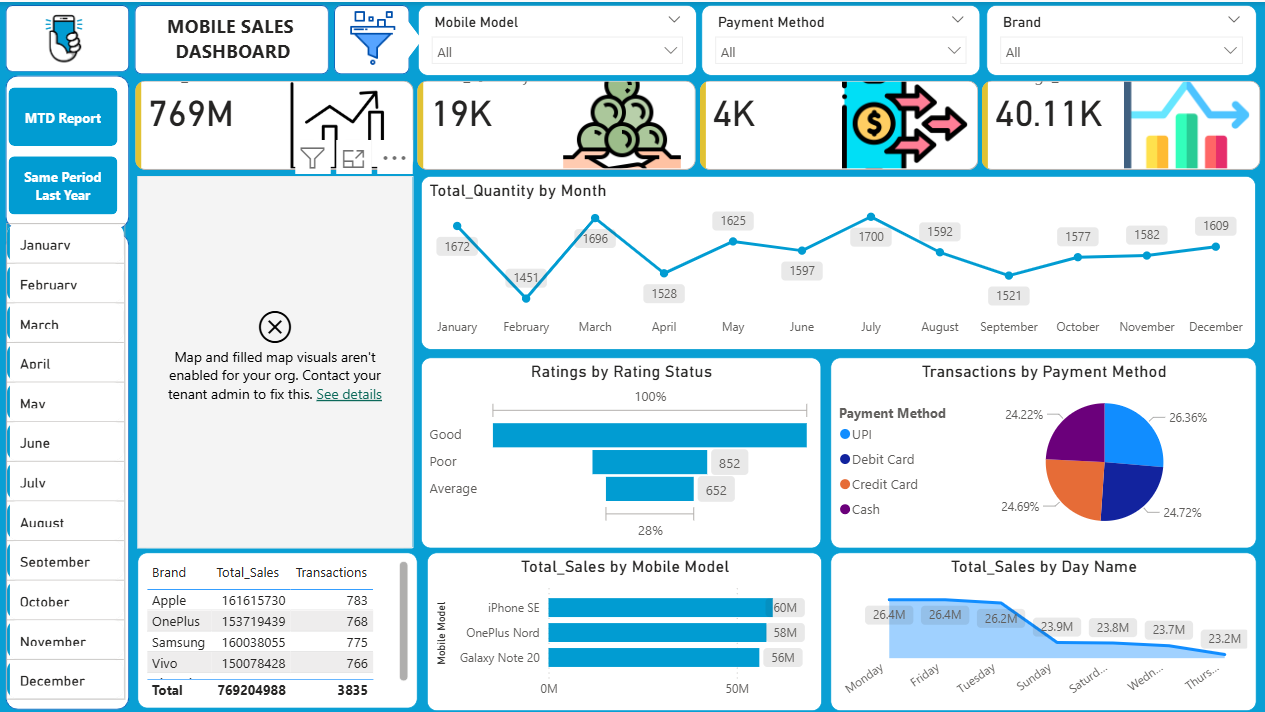

The page's visual inventory and layout, read from the dashboard file:
{"tool":"powerbi","page":{"name":"Dashboard","canvas":[1280,720],"ordinal":0},"visuals":[{"type":"shape","box":[7.5,3.8,125,67.5],"z":0},{"type":"image","box":[27.3,0,78.7,72.7],"z":1000},{"type":"shape","box":[7.5,73.8,125,155],"z":2000},{"type":"shape","box":[7.5,232.5,125,481.2],"z":3000},{"type":"advancedSlicerVisual","fields":{"Values":["Custom_Calendar.Date.Variation.Date Hierarchy.Month"]},"box":[10.6,233.2,130.2,483],"z":4000},{"type":"cardVisual","fields":{"Data":["Sales_Data.Total_Sales","Sales_Data.Total_Quantity","Sales_Data.Transactions","Sales_Data.Average_Price"]},"box":[132.5,73.8,1147.5,100],"z":5000},{"type":"slicer","fields":{"Values":["Sales_Data.Mobile Model"]},"box":[423.8,3.8,281.2,71.2],"z":6000},{"type":"slicer","fields":{"Values":["Sales_Data.Payment Method"]},"box":[710,3.8,281.2,71.2],"z":7000},{"type":"slicer","fields":{"Values":["Sales_Data.Brand"]},"box":[997.5,3.8,272.5,71.2],"z":8000},{"type":"shape","box":[338.8,3.8,76.2,70],"z":9000},{"type":"image","box":[337.5,3.8,81.2,66.2],"z":10000},{"type":"shape","box":[397.5,17.5,30,40],"z":11000},{"type":"shape","box":[137.5,3.8,196.2,70],"z":12000},{"type":"textbox","box":[156.2,6.2,162.5,63.8],"z":13000},{"type":"map","fields":{"Category":["Sales_Data.City"],"Size":["Sales_Data.Total_Sales"]},"box":[141.2,175,277.5,376.2],"z":14000},{"type":"lineChart","fields":{"Y":["Sales_Data.Total_Quantity"],"Category":["Custom_Calendar.Date.Variation.Date Hierarchy.Month"]},"box":[427.5,175,842.5,175],"z":15000},{"type":"funnel","title":"Ratings by Rating Status","fields":{"Y":["CountNonNull(Sales_Data.Customer Ratings)"],"Category":["Sales_Data.Rating Status"]},"box":[427.5,358.8,403.8,192.5],"z":16000},{"type":"pieChart","fields":{"Y":["Sales_Data.Transactions"],"Category":["Sales_Data.Payment Method"]},"box":[840,358.8,430,192.5],"z":17000},{"type":"clusteredBarChart","fields":{"Y":["Sales_Data.Total_Sales"],"Category":["Sales_Data.Mobile Model"]},"box":[433.8,556.2,398.8,160],"z":18000},{"type":"areaChart","fields":{"Y":["Sales_Data.Total_Sales"],"Category":["Custom_Calendar.Day Name"]},"box":[840,556.2,430,160],"z":19000},{"type":"tableEx","fields":{"Values":["Sales_Data.Brand","Sales_Data.Total_Sales","Sales_Data.Transactions"]},"box":[141.2,556.2,282.5,157.5],"z":20000},{"type":"pageNavigator","box":[10.6,86.3,110.5,128.7],"z":21000}]}

Visuals, with their boxes in screenshot pixels (x1, y1, x2, y2), scaled from the page's 1280x720 canvas onto the 1265x712 screenshot:
shape: (7,4,131,71)
image: (27,0,105,72)
shape: (7,73,131,226)
shape: (7,230,131,706)
advancedSlicerVisual - Custom_Calendar.Date.Variation.Date Hierarchy.Month: (10,231,139,708)
cardVisual - Sales_Data.Total_Sales x Sales_Data.Total_Quantity: (131,73,1264,172)
slicer - Sales_Data.Mobile Model: (419,4,697,74)
slicer - Sales_Data.Payment Method: (702,4,980,74)
slicer - Sales_Data.Brand: (986,4,1255,74)
shape: (335,4,410,73)
image: (334,4,414,69)
shape: (393,17,422,57)
shape: (136,4,330,73)
textbox: (154,6,315,69)
map - Sales_Data.City x Sales_Data.Total_Sales: (140,173,414,545)
lineChart - Sales_Data.Total_Quantity x Custom_Calendar.Date.Variation.Date Hierarchy.Month: (422,173,1255,346)
"Ratings by Rating Status" funnel: (422,355,822,545)
pieChart - Sales_Data.Transactions x Sales_Data.Payment Method: (830,355,1255,545)
clusteredBarChart - Sales_Data.Total_Sales x Sales_Data.Mobile Model: (429,550,823,708)
areaChart - Sales_Data.Total_Sales x Custom_Calendar.Day Name: (830,550,1255,708)
tableEx - Sales_Data.Brand x Sales_Data.Total_Sales: (140,550,419,706)
pageNavigator: (10,85,120,213)
